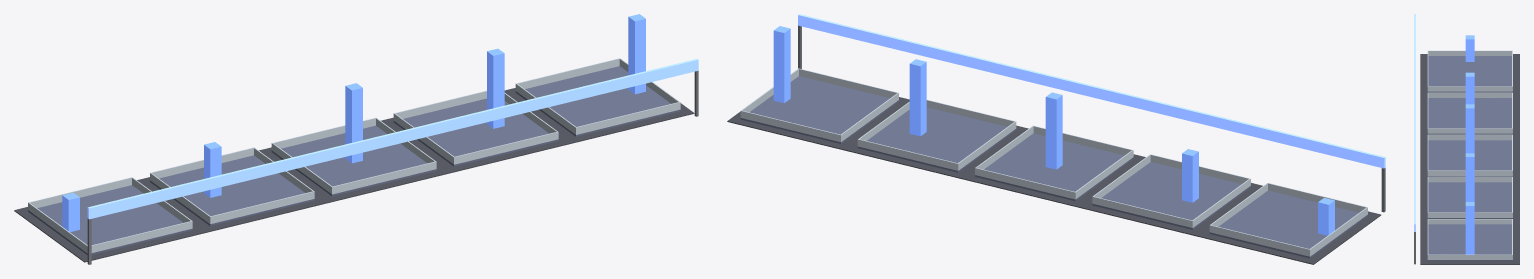
Rendered from pack-future-work.glb.
3 views of the same model, side by side, from view 1: azimuth 30°, elevation 25°; view 2: azimuth 150°, elevation 25°; view 3: azimuth 270°, elevation 25° (orthographic). The views are drawn at different scales.
Visible parts, largest first — view 1: Future-Work; view 2: Future-Work; view 3: Future-Work.
Part boxes in pixels (bbox=[...]): Future-Work: bbox=[14, 14, 698, 264]; Future-Work: bbox=[727, 14, 1385, 264]; Future-Work: bbox=[1414, 14, 1519, 264].
Size of the model in its own units: 70 by 8.3 by 14.9.
